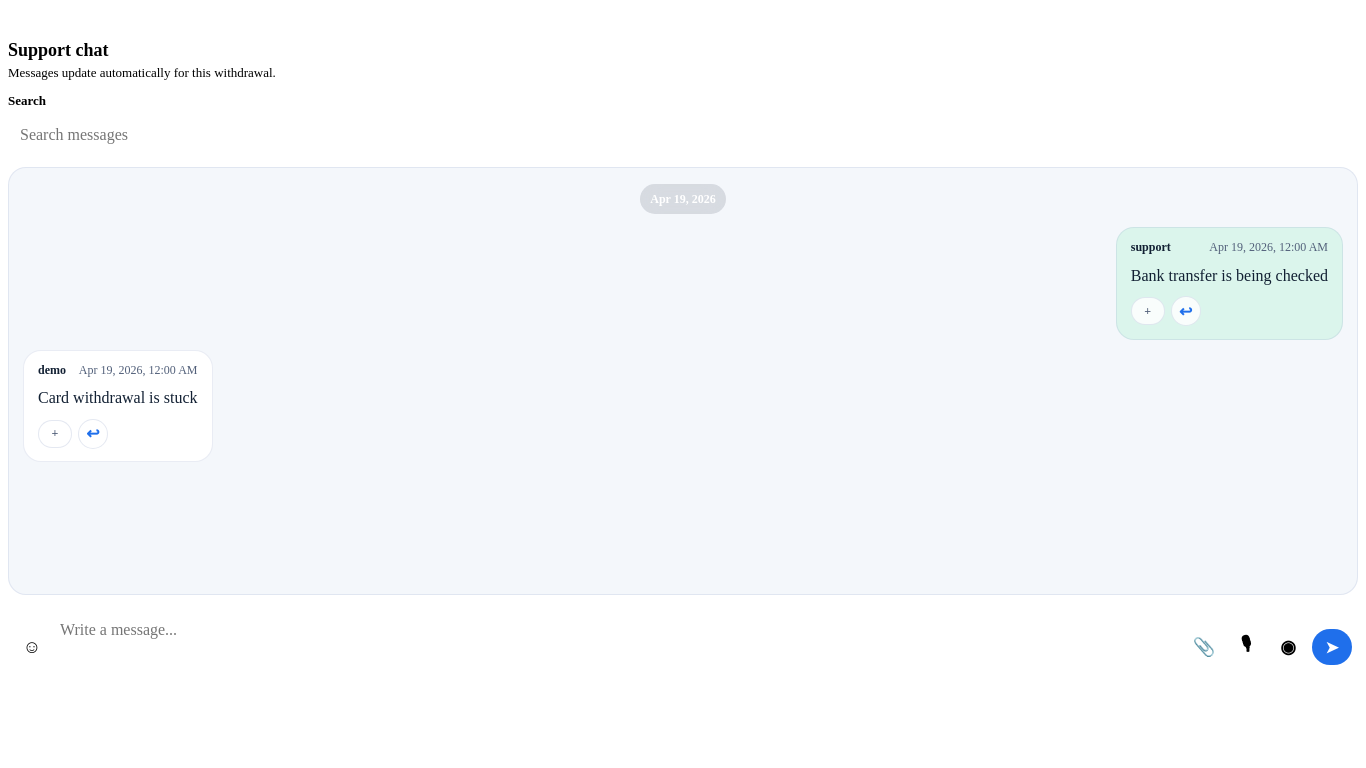
Test case: withdraw ticket chat › filters user chat messages by search text
Check: the text "Bank transfer is being checked" is shown, box [1131,264,1328,288]
Type "card" into the search field with placeholder "Search messages". click: (178, 135)
box: [8,115,348,155]
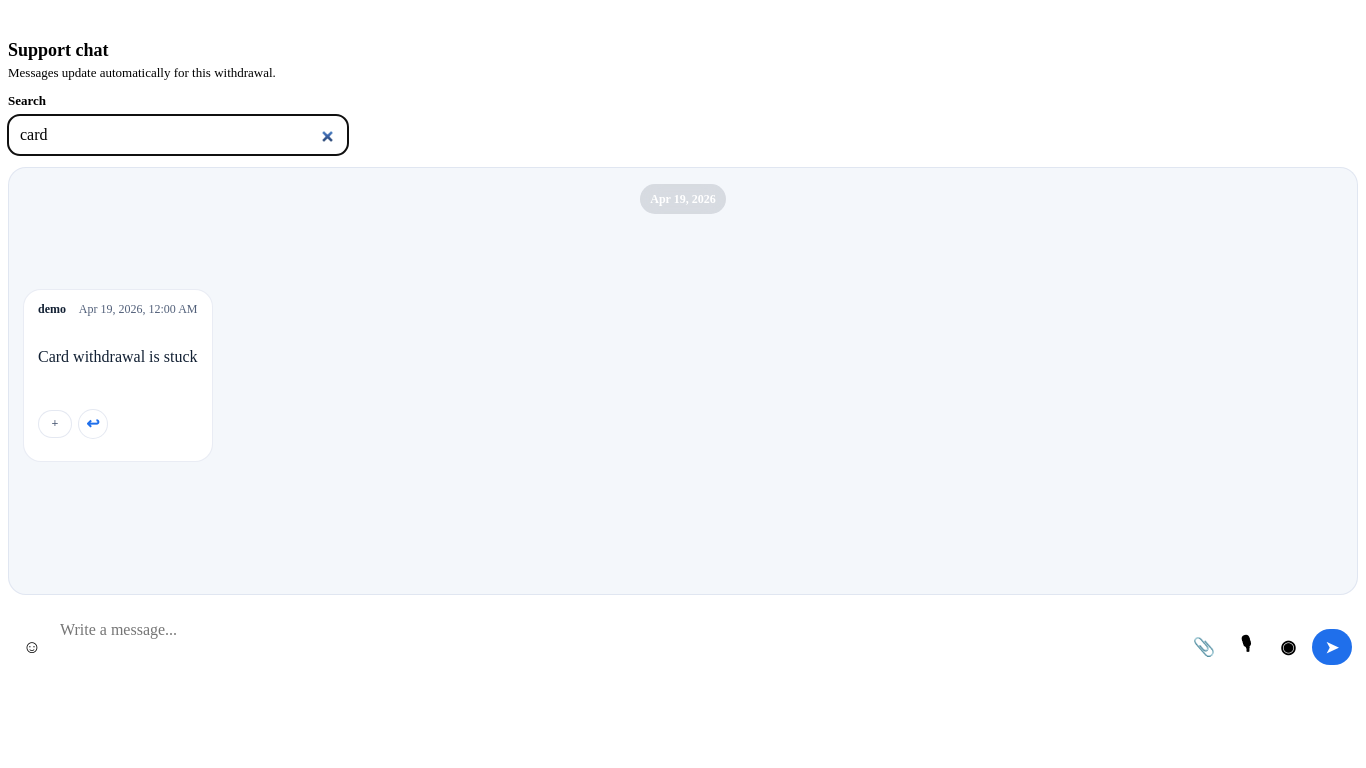
Check: the text "Card withdrawal is stuck" is shown, box [38,348,198,365]
Check: the text "Bank transfer is being checked" is gone
